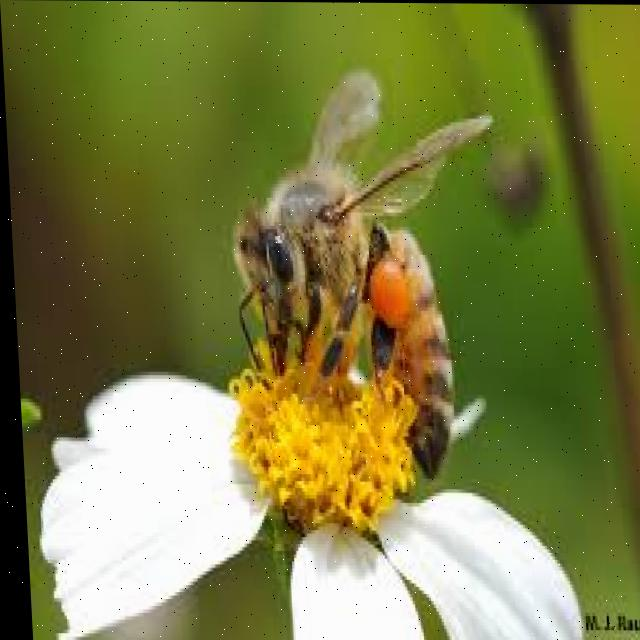Apis-mellifera-scutellata: (186, 45, 493, 494)
